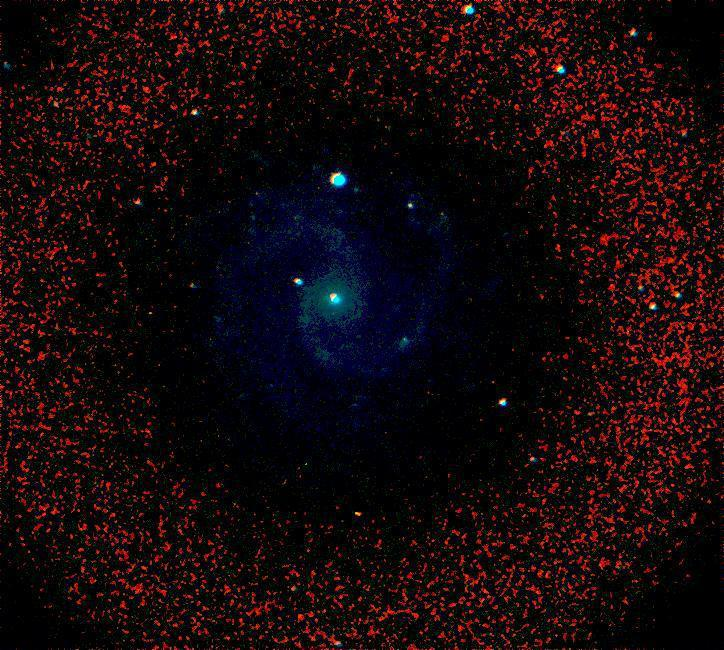star: (343, 496, 373, 526)
